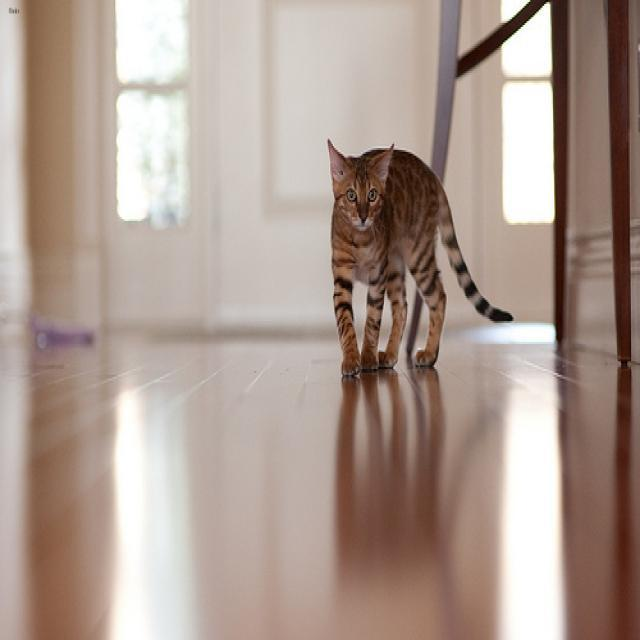Bengal: (326, 135, 397, 239)
